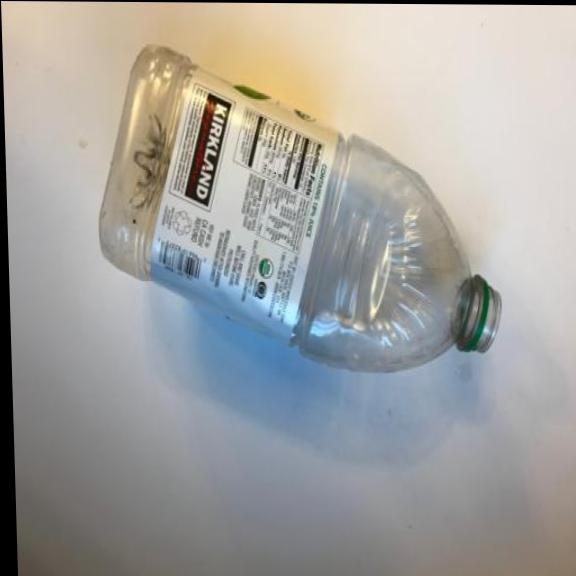Plastik: (90, 38, 508, 383)
